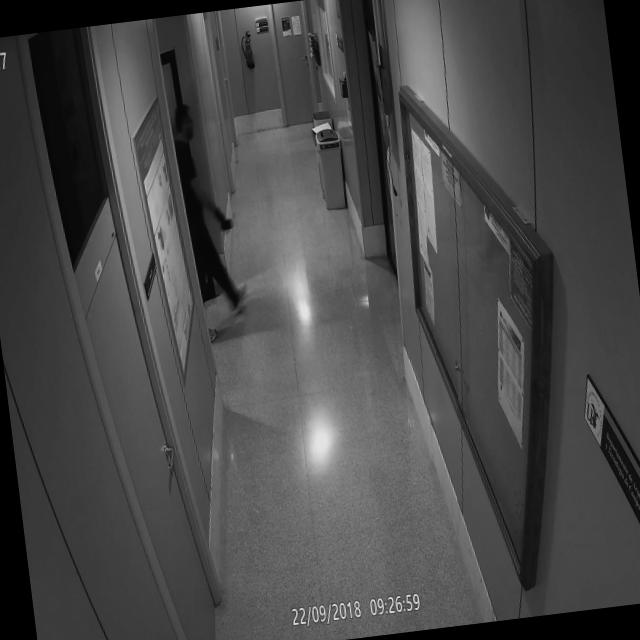gun: (211, 200, 240, 244)
person with a gun: (162, 91, 248, 319)
